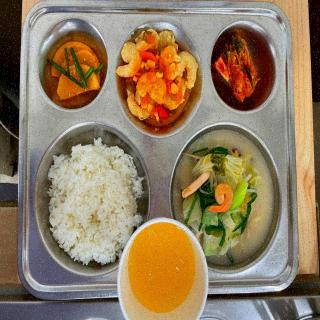Nasi: (49, 136, 129, 270)
